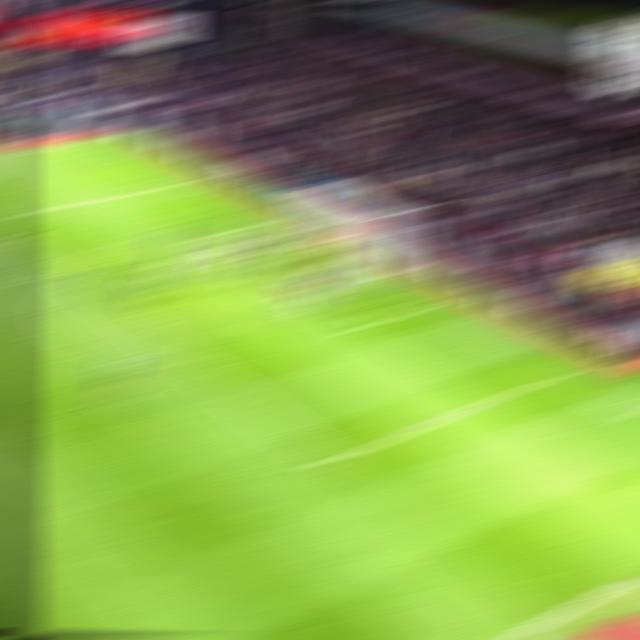bigarea_bottom_inner: (309, 448, 350, 472)
bigarea_bottom_outter: (540, 366, 576, 380)
bigarea_top_outter: (166, 177, 200, 189)
bottom_arc_area_intersection: (171, 351, 211, 371)
corner: (80, 135, 118, 146)
smallarea_bottom_inner: (342, 316, 378, 336)
smallarea_bottom_outter: (405, 299, 444, 314)
smallarea_top_inner: (182, 229, 219, 244)
smallarea_top_outter: (241, 215, 276, 229)
top_arc_area_intersection: (51, 266, 89, 284)
